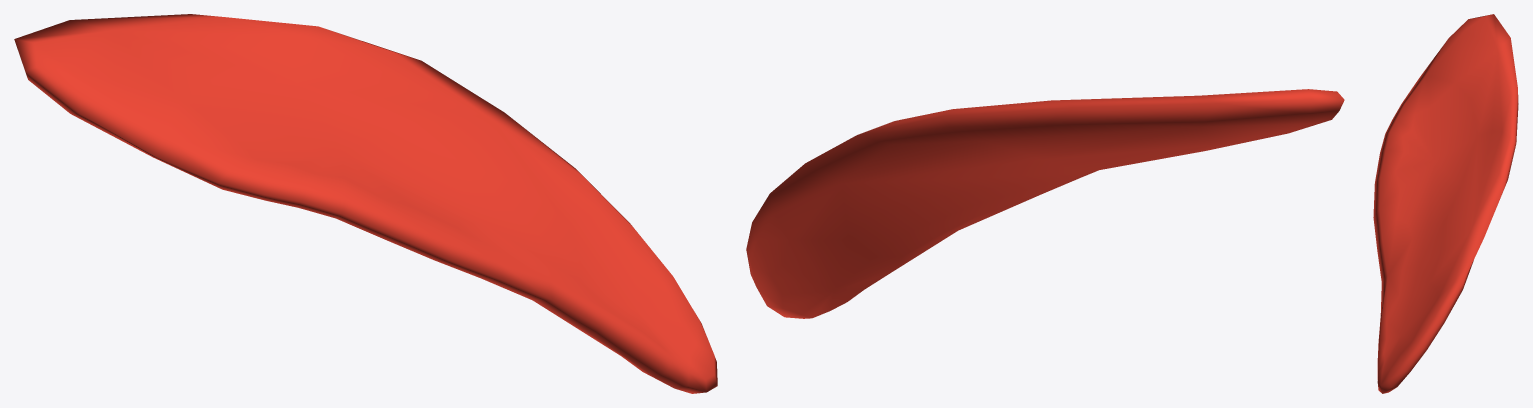
File: Dorsal_interossei_1st_metacarpal_left.glb
3 views of the same model, side by side, from view 1: azimuth 30°, elevation 25°; view 2: azimuth 150°, elevation 25°; view 3: azimuth 270°, elevation 25° (orthographic). The views are drawn at different scales.
Visible parts, largest first — view 1: Dorsal_interosseus_muscles_of_1st_metacarpal_bone.l_Generate; view 2: Dorsal_interosseus_muscles_of_1st_metacarpal_bone.l_Generate; view 3: Dorsal_interosseus_muscles_of_1st_metacarpal_bone.l_Generate.
Part boxes in pixels (x1,y1,x2,y2): Dorsal_interosseus_muscles_of_1st_metacarpal_bone.l_Generate: (14, 14, 717, 393); Dorsal_interosseus_muscles_of_1st_metacarpal_bone.l_Generate: (746, 89, 1344, 318); Dorsal_interosseus_muscles_of_1st_metacarpal_bone.l_Generate: (1373, 14, 1518, 393).
Size of the model in its own units: 0.00973 by 0.00633 by 0.00369.
